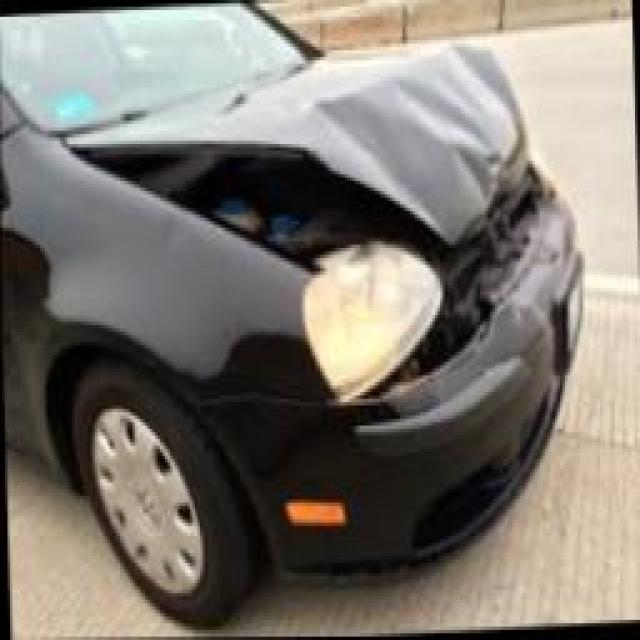replaceable: (151, 28, 519, 218), (442, 246, 517, 315)
